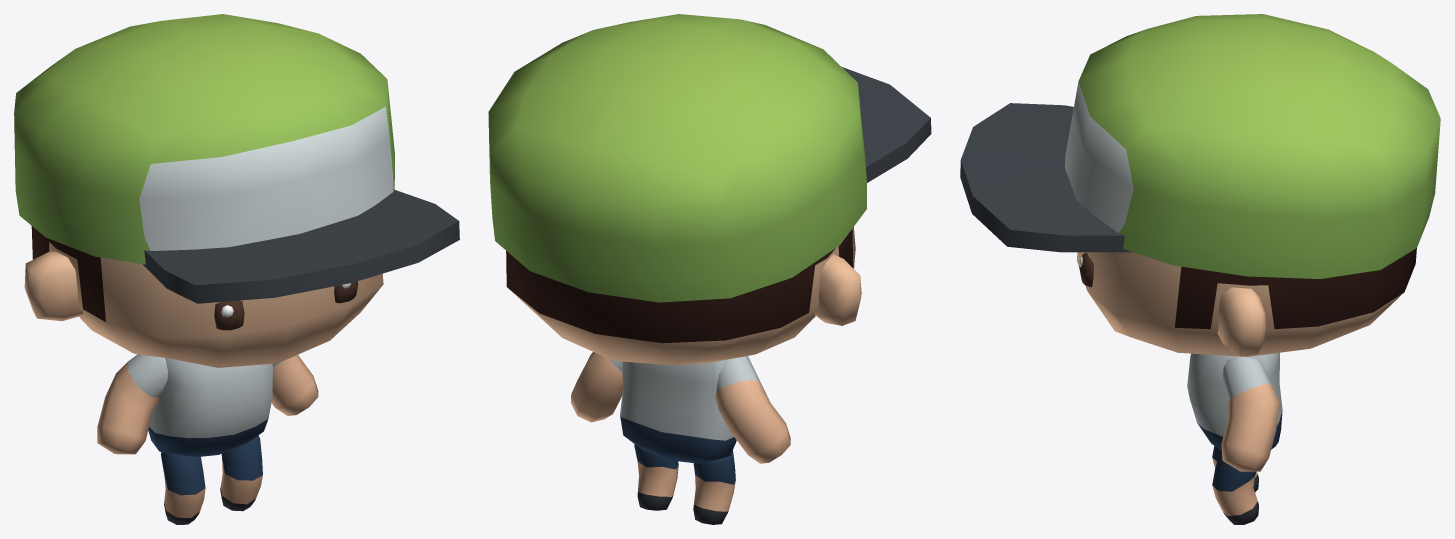
The model's file is idle_0039.obj.
The picture shows the model from 3 angles, left to right: view 1: azimuth 30°, elevation 25°; view 2: azimuth 150°, elevation 25°; view 3: azimuth 270°, elevation 25°; orthographic projection.
Parts seen in each view (by area): view 1: Object_41, Object_42, Object_36, Object_44, Object_38; view 2: Object_41, Object_44, Object_36, Object_42; view 3: Object_41, Object_36, Object_42, Object_44.
Part boxes in pixels (x1=…): Object_41: x1=14, y1=14, x2=394, y2=264; Object_42: x1=139, y1=107, x2=459, y2=303; Object_36: x1=24, y1=226, x2=383, y2=367; Object_44: x1=97, y1=354, x2=318, y2=524; Object_38: x1=214, y1=281, x2=358, y2=330; Object_41: x1=488, y1=14, x2=866, y2=302; Object_44: x1=571, y1=352, x2=790, y2=524; Object_36: x1=506, y1=227, x2=861, y2=365; Object_42: x1=842, y1=67, x2=931, y2=182; Object_41: x1=1078, y1=14, x2=1440, y2=278; Object_36: x1=1077, y1=248, x2=1416, y2=356; Object_42: x1=960, y1=81, x2=1133, y2=252; Object_44: x1=1187, y1=352, x2=1282, y2=524.
Bounding box in the file's own units: 0.9691 × 1.22 × 1.14.
